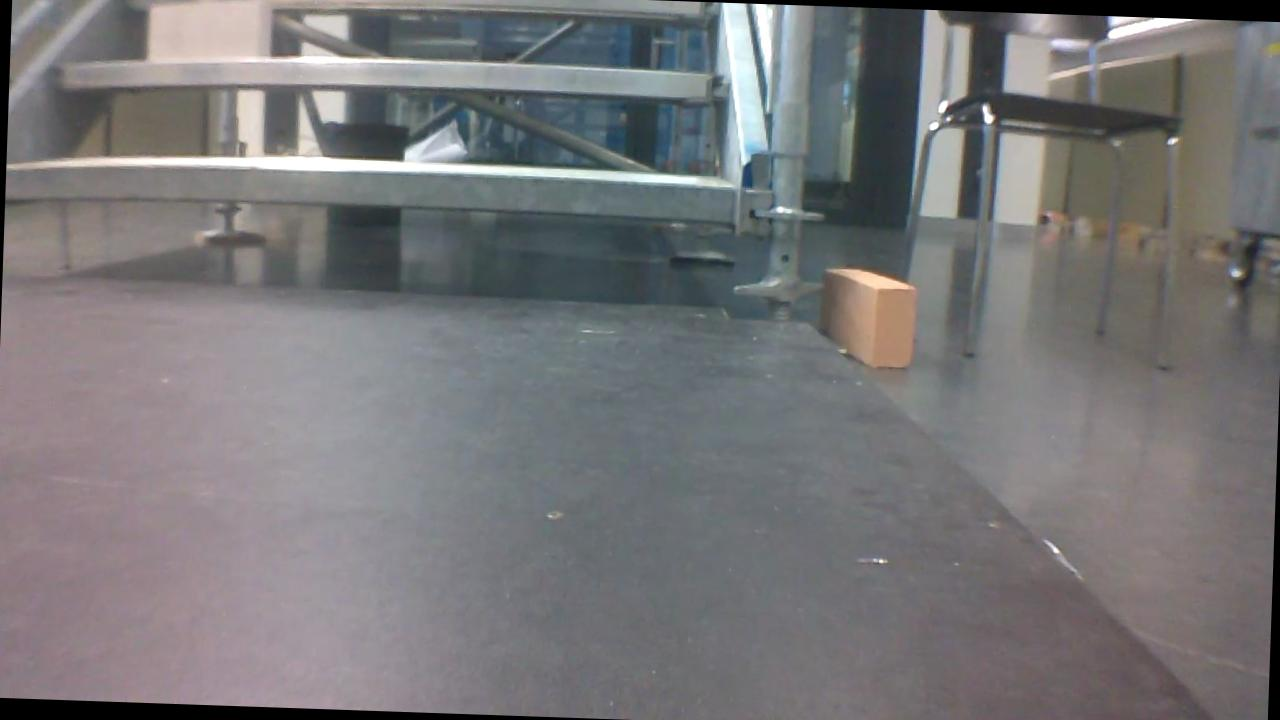brick: (821, 268, 915, 365)
edge: (8, 153, 732, 217), (58, 49, 724, 107)
